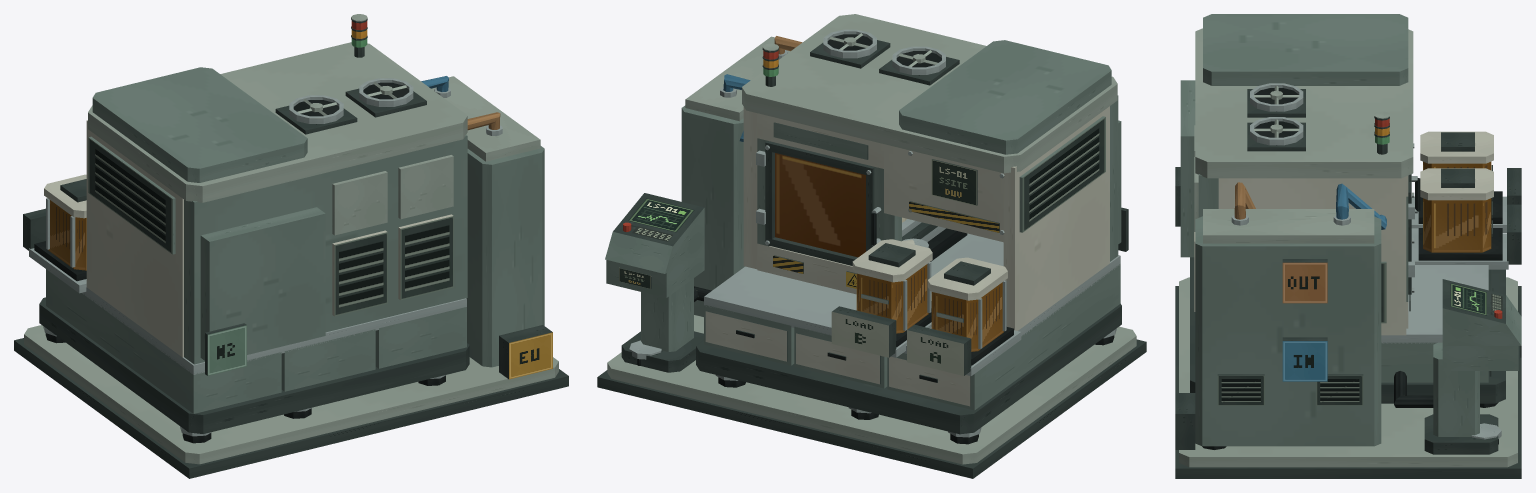
Rendered from lithography_machine.obj.
3 renders of one model, left to right at view 1: azimuth 30°, elevation 25°; view 2: azimuth 150°, elevation 25°; view 3: azimuth 270°, elevation 25°, orthographic.
Visible parts, largest first — view 1: roof, foundation, lower_cabinets, utility_cabinet, chamber_rear, chamber_left, laser_cover, rear_service, roof_filters, cassette_a, eu_input, load_ports (+4 smaller); view 2: roof, foundation, chamber_left, lower_cabinets, utility_cabinet, amber_window, control_console, load_ports, cassette_a, cassette_b, front_frame, control_pedestal (+10 smaller); view 3: utility_cabinet, roof, foundation, chamber_right, cassette_b, lower_cabinets, control_console, control_pedestal, load_ports, roof_filters, cassette_a, laser_cover (+12 smaller).
Part boxes in pixels (x1,y1,x2,y2): roof: (88,42,467,202); foundation: (14,297,568,478); lower_cabinets: (46,269,466,413); utility_cabinet: (431,76,544,367); chamber_rear: (184,135,467,364); chamber_left: (86,120,183,357); laser_cover: (200,207,325,360); rear_service: (332,155,453,316); roof_filters: (275,78,426,134); cassette_a: (44,174,86,270); eu_input: (499,325,552,379); load_ports: (23,208,86,293); roof: (742,14,1117,173); foundation: (597,303,1146,478); chamber_left: (884,106,1109,330); lower_cabinets: (704,233,1120,410); utility_cabinet: (681,36,789,316); amber_window: (775,153,865,257); control_console: (605,193,704,297); load_ports: (831,306,1021,375); cassette_a: (927,257,1007,351); cassette_b: (852,239,932,333); front_frame: (757,113,883,294); control_pedestal: (621,278,703,372); utility_cabinet: (1195,209,1381,446); roof: (1195,14,1413,178); foundation: (1175,257,1521,478); chamber_right: (1218,176,1406,335); cassette_b: (1420,168,1493,252); lower_cabinets: (1381,228,1493,382); control_console: (1442,279,1521,370); control_pedestal: (1424,342,1498,454); load_ports: (1411,168,1521,269); roof_filters: (1247,83,1305,151); cassette_a: (1420,131,1493,200); laser_cover: (1180,80,1195,257).
Bounding box in the file's own units: 5 × 4 × 4.
Materials: 1 (1 with a texture image).
